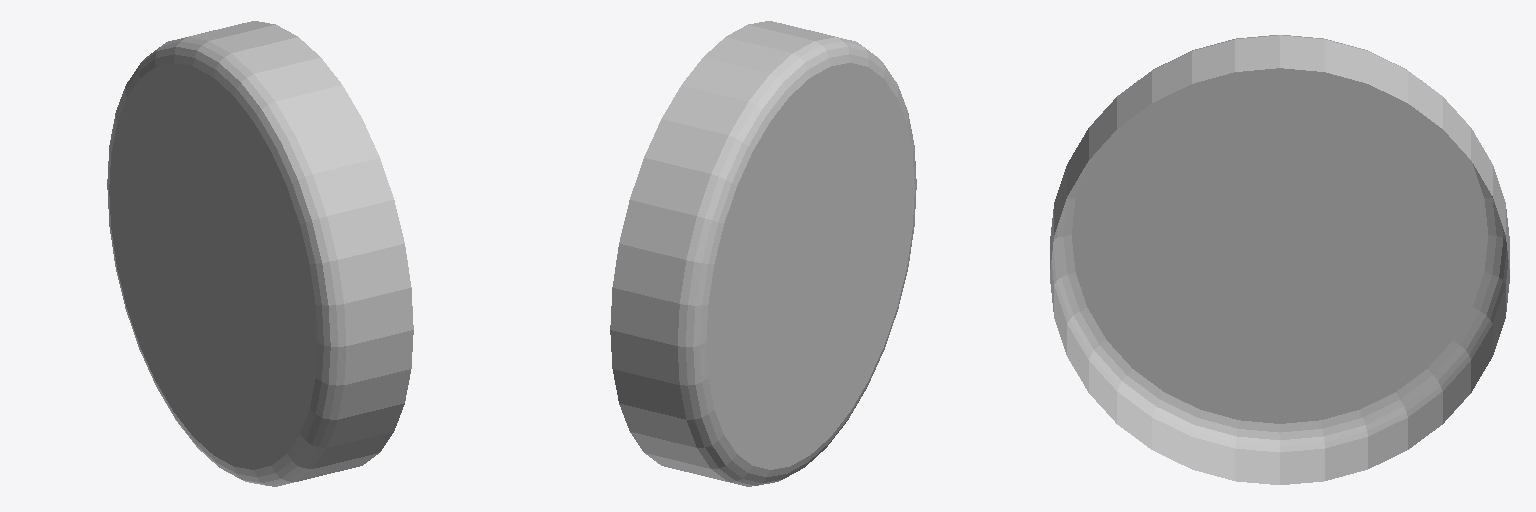
Rendered from tire1.obj.
3 renders of one model, left to right at view 1: azimuth 30°, elevation 25°; view 2: azimuth 150°, elevation 25°; view 3: azimuth 270°, elevation 25°, orthographic.
Parts seen in each view (by area): view 1: __001; view 2: __001; view 3: __001.
Part boxes in pixels (x1,y1,x2,y2): __001: (107,21,413,486); __001: (610,21,916,486); __001: (1050,35,1509,484).
Size of the model in its own units: 194 by 906 by 907.